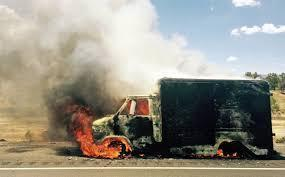fire: (72, 111, 130, 160), (205, 142, 236, 159), (125, 99, 154, 114)
